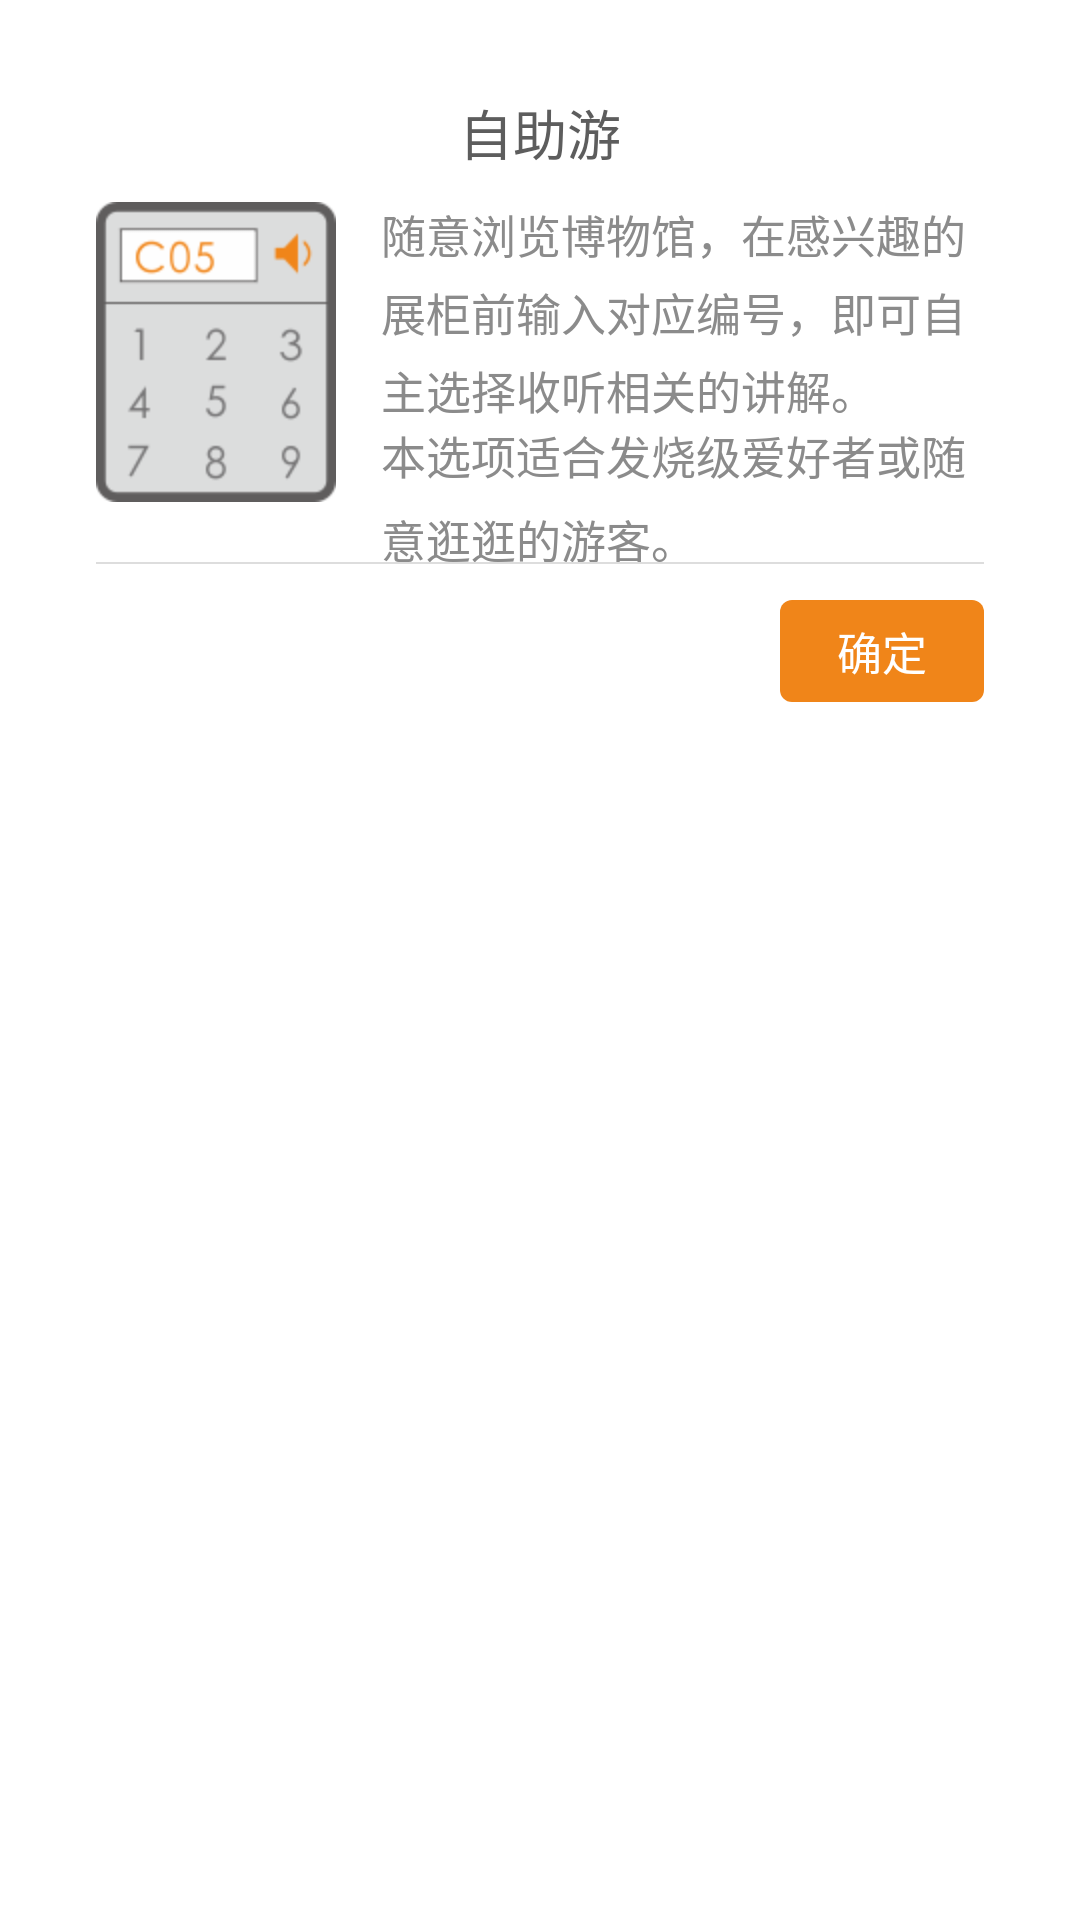

Icon bounding boxes for this 1080w x 1920h phone screenshot, format (x1, y1, x2, y2):
help self: (96, 202, 336, 502)
